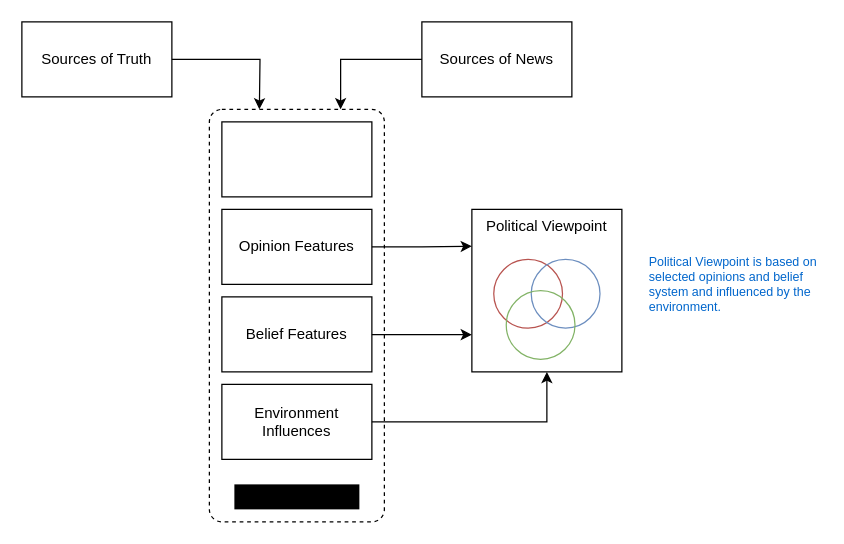
The diagram is 844 pixels wide and 544 high, and some of its shapes have lost their labels. The shapes that lost their labels are listed below. From the top down, each one's centre as x and y in pixels, then its label:
At pixel 296 159: "Truth Validator".
At pixel 296 496: "VERITAS NEWS".
